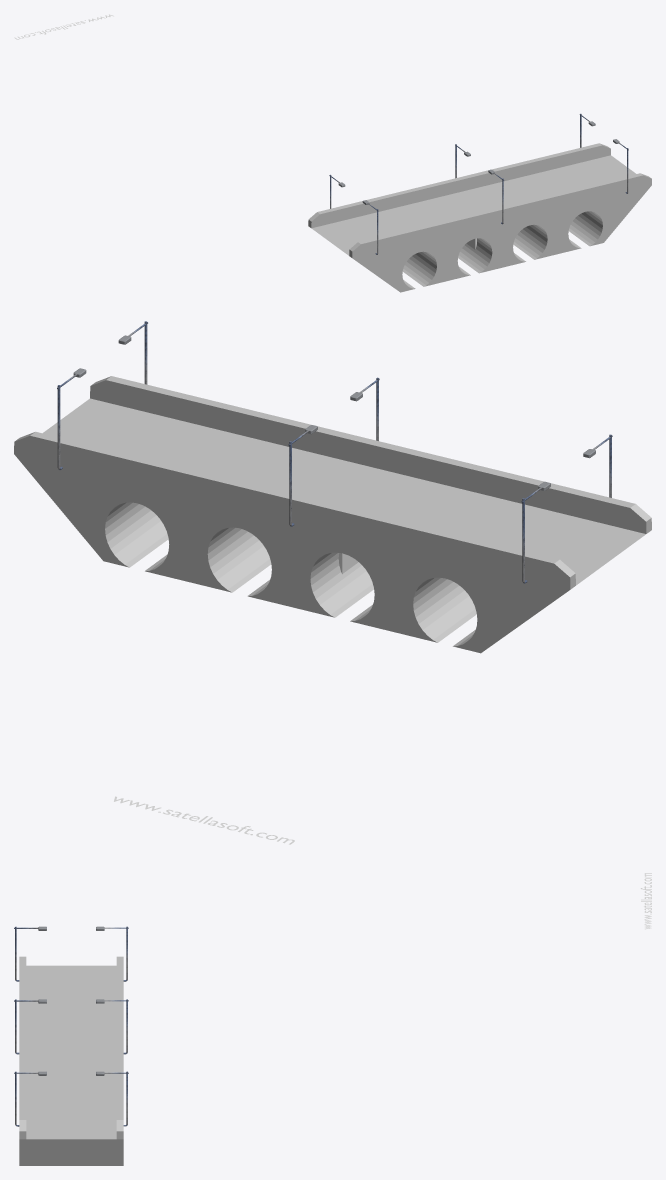
File: Bridge.dae
3 views of the same model, one above another, from view 1: azimuth 30°, elevation 25°; view 2: azimuth 150°, elevation 25°; view 3: azimuth 270°, elevation 25° (orthographic). The views are drawn at different scales.
Parts seen in each view (by area): view 1: bridge_Cube; view 2: bridge_Cube; view 3: bridge_Cube.
Boxes of the visible parts, x1=… form: bridge_Cube: x1=308, y1=143, x2=651, y2=292; bridge_Cube: x1=14, y1=376, x2=651, y2=653; bridge_Cube: x1=19, y1=956, x2=123, y2=1165.
Size of the model in its own units: 31.64 by 39.66 by 7.35.
